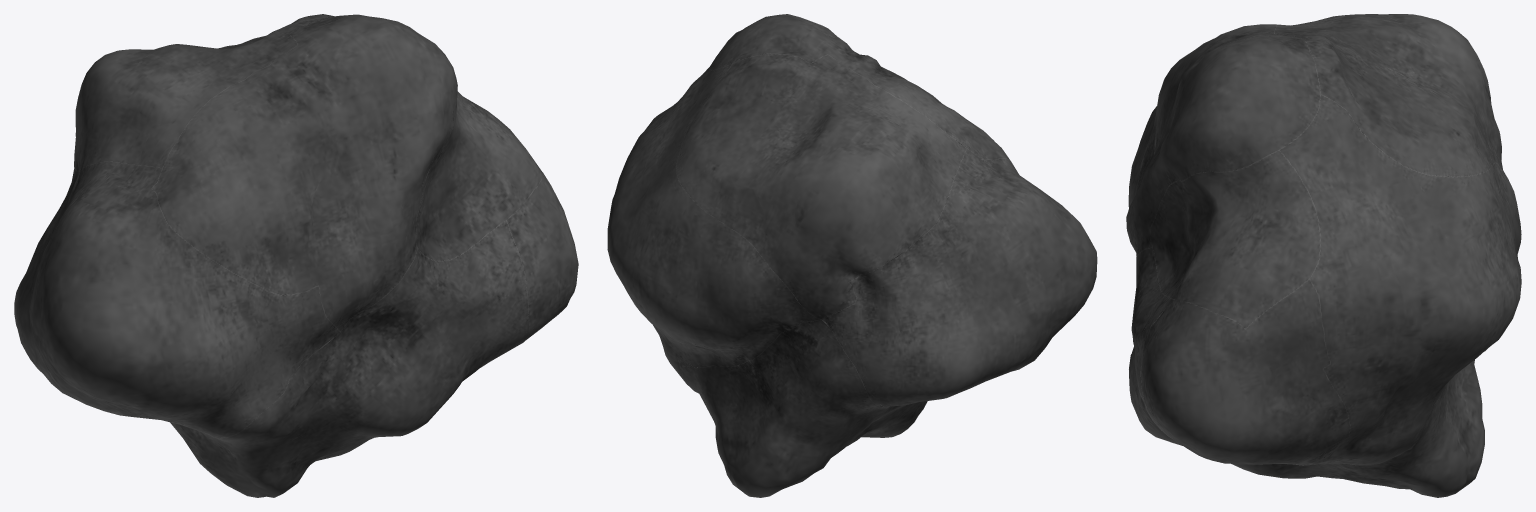
Rendered from asteroid-low.glb.
The picture shows the model from 3 angles, left to right: view 1: azimuth 30°, elevation 25°; view 2: azimuth 150°, elevation 25°; view 3: azimuth 270°, elevation 25°; orthographic projection. The views are drawn at different scales.
Visible parts, largest first — view 1: Group24690; view 2: Group24690; view 3: Group24690.
Part boxes in pixels (left/top/right/bottom): Group24690: left=14, top=14, right=578, bottom=497; Group24690: left=607, top=14, right=1097, bottom=497; Group24690: left=1126, top=14, right=1521, bottom=497.
Size of the model in its own units: 4.2 by 3.61 by 2.72.
Materials: 1 (1 with a texture image).
